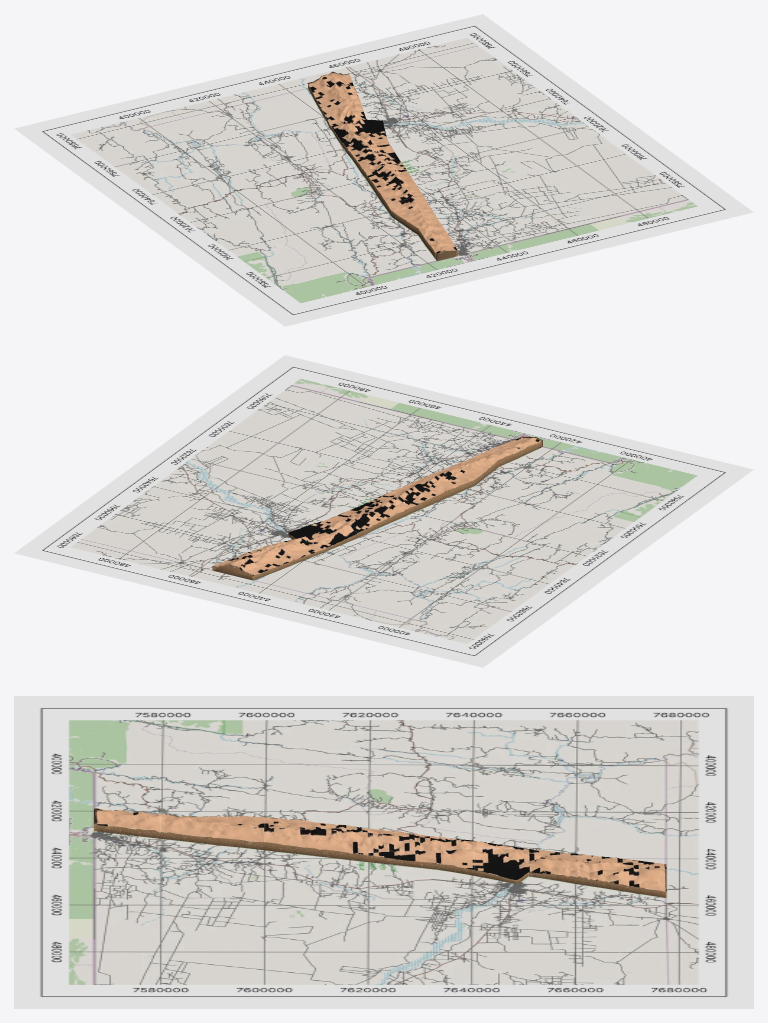
File: papa.glb
3 views of the same model, one above another, from view 1: azimuth 30°, elevation 25°; view 2: azimuth 150°, elevation 25°; view 3: azimuth 270°, elevation 25° (orthographic). The views are drawn at different scales.
Parts seen in each view (by area): view 1: Map, Terrain; view 2: Map, Terrain; view 3: Map, Terrain.
Boxes of the visible parts, box(x1,y1,x2,y2) form: Map: box(14, 14, 753, 326); Terrain: box(308, 71, 458, 260); Map: box(14, 355, 753, 667); Terrain: box(212, 436, 542, 580); Map: box(14, 696, 753, 1008); Terrain: box(94, 808, 666, 897).
Size of the model in its own units: 10 by 0.2431 by 10.
3 materials, 3 textured.
